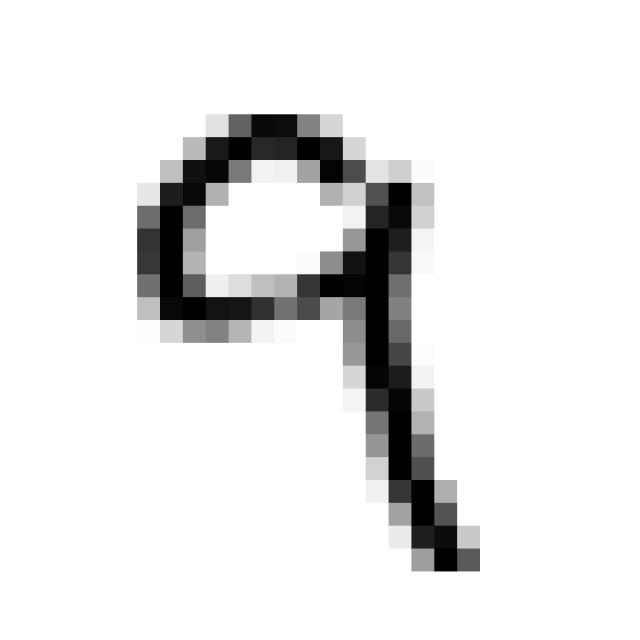9 -nine-: (115, 98, 498, 602)
